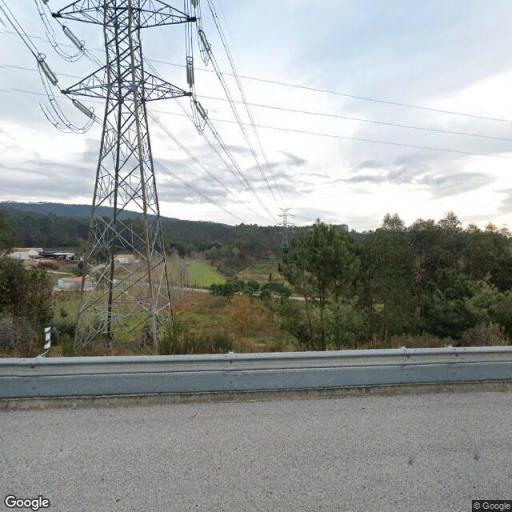ss_3: (49, 0, 204, 351), (276, 206, 294, 250)
